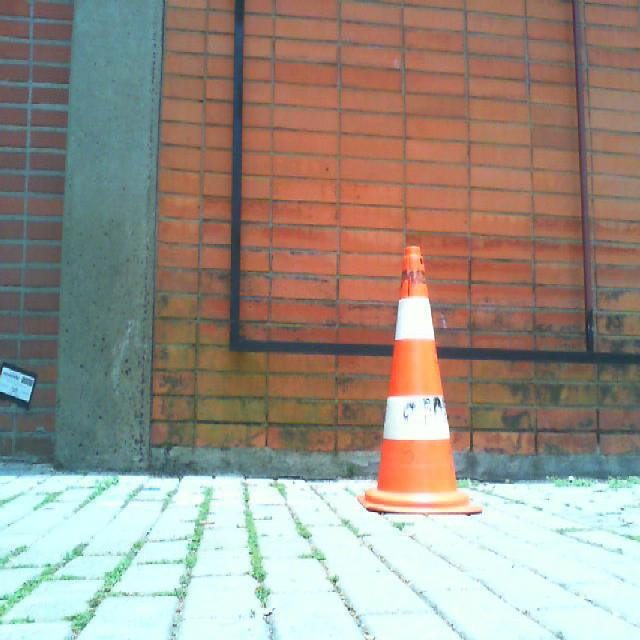Cone: (358, 245, 482, 515)
